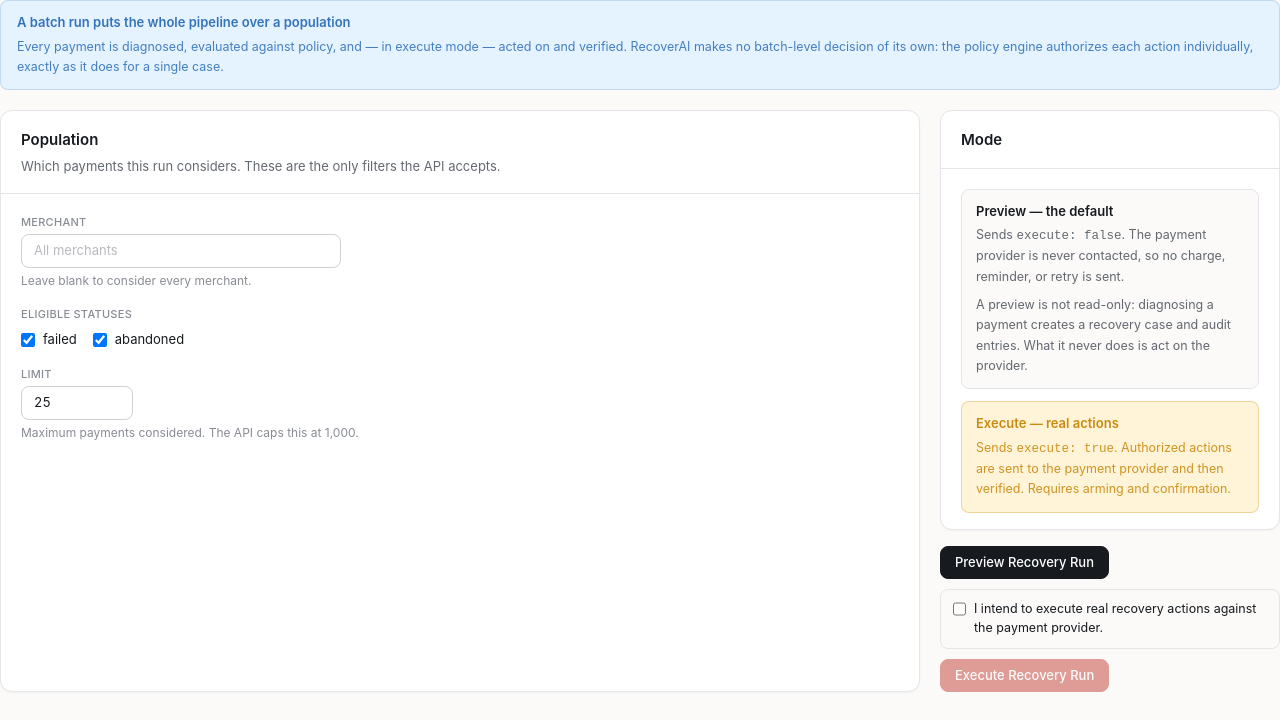
Scenario: Batch Recovery — execute requires explicit confirmation › cancelling the confirmation sends nothing
The width and height of the screenshot is (1280, 720).
Click the checkbox labelled "intend to execute". click: (960, 609)
box: [953,602,966,616]
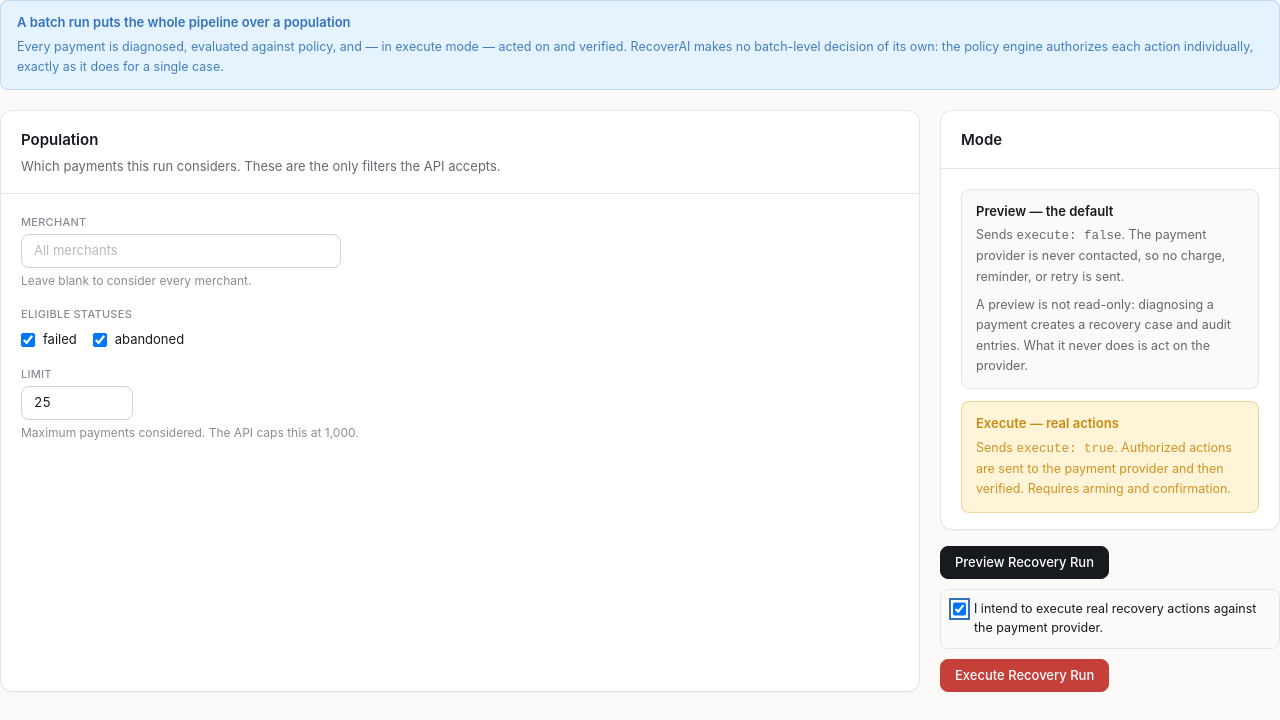
Click the button "Execute Recovery Run". click: (1025, 676)
box: [940,659,1109,692]
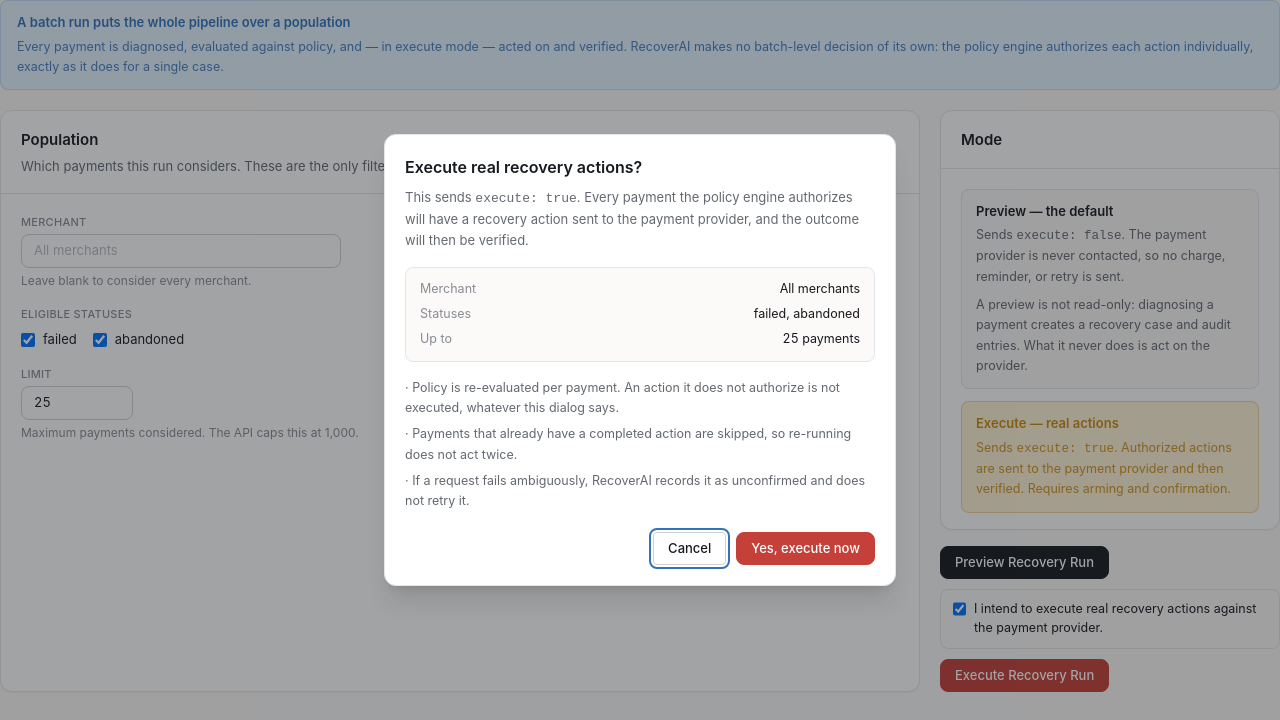
Click the button "Cancel". click: (690, 548)
box: [653,532,726,565]
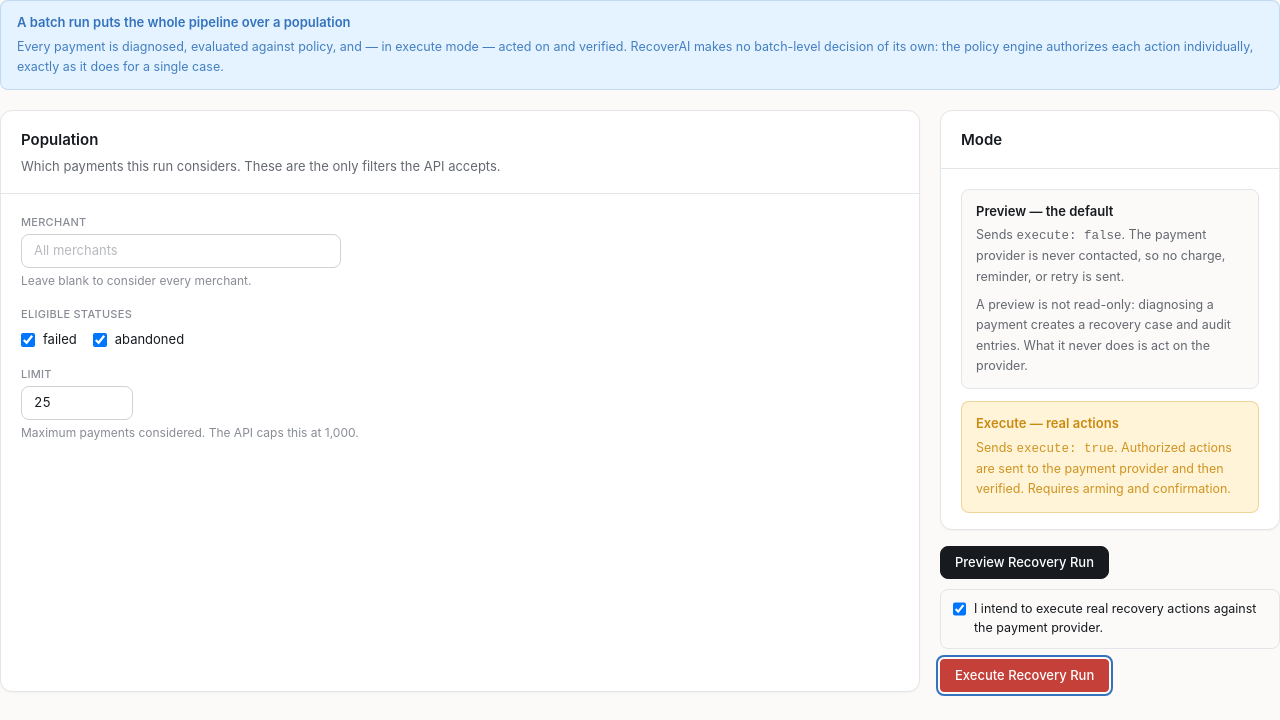
Expected: the dialog is gone
